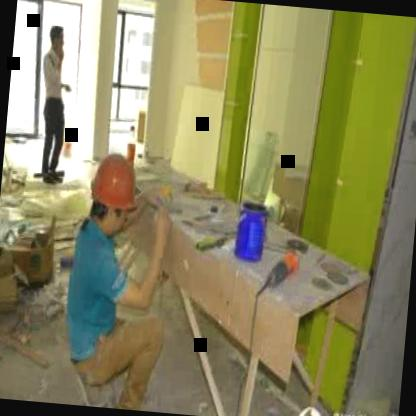head: (47, 18, 72, 55)
helmet: (85, 148, 144, 240)
